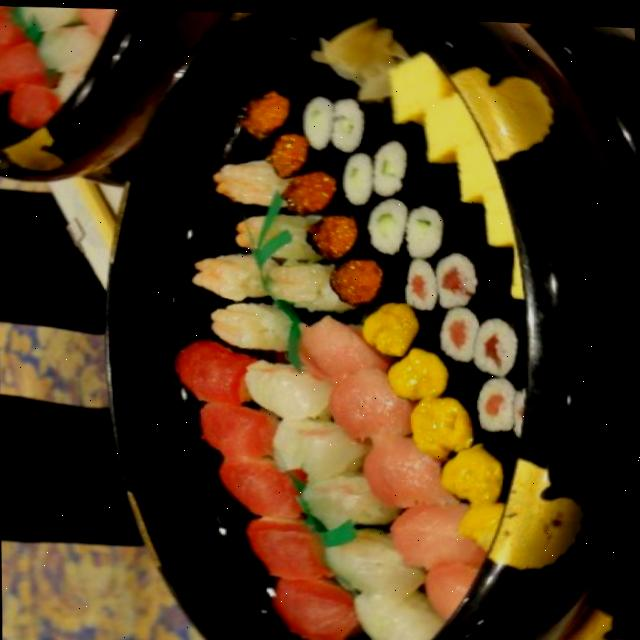寿司卷物: (91, 3, 638, 640)
